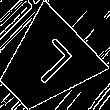L_SW: (17, 36, 74, 93)
